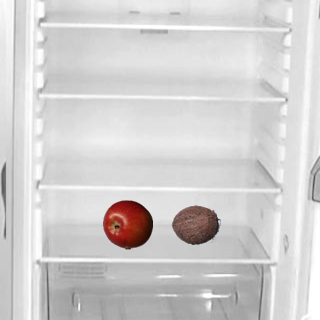Apple Braeburn: (102, 199, 152, 249)
Cocos: (170, 199, 220, 249)
